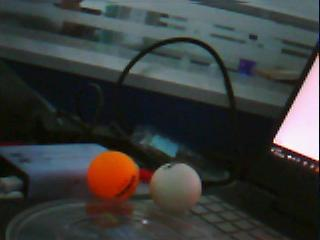oball: (87, 151, 138, 199)
